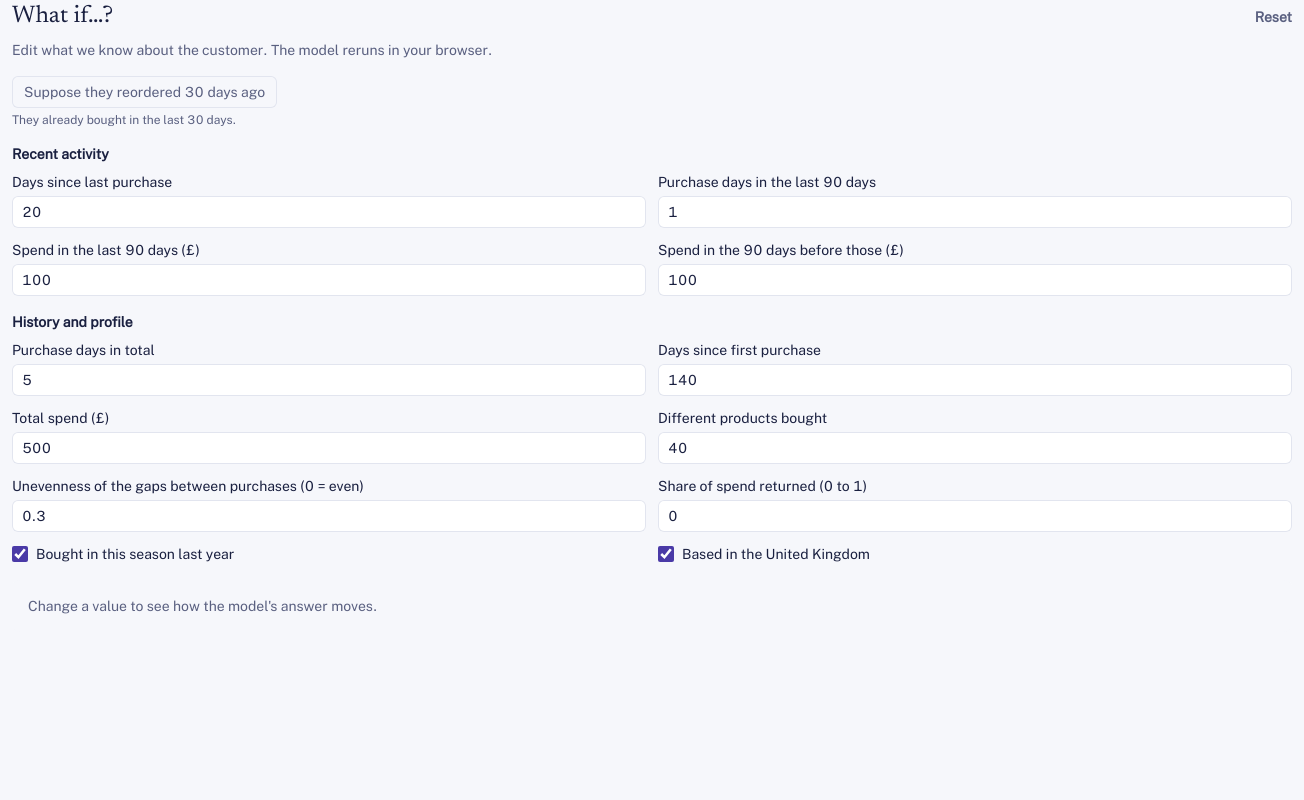
Test case: an edit reruns the model and shows before and after
Replace the text in the field labelled "Days since last purchase" with "60": (329, 212) x1=12 y1=196 x2=646 y2=228
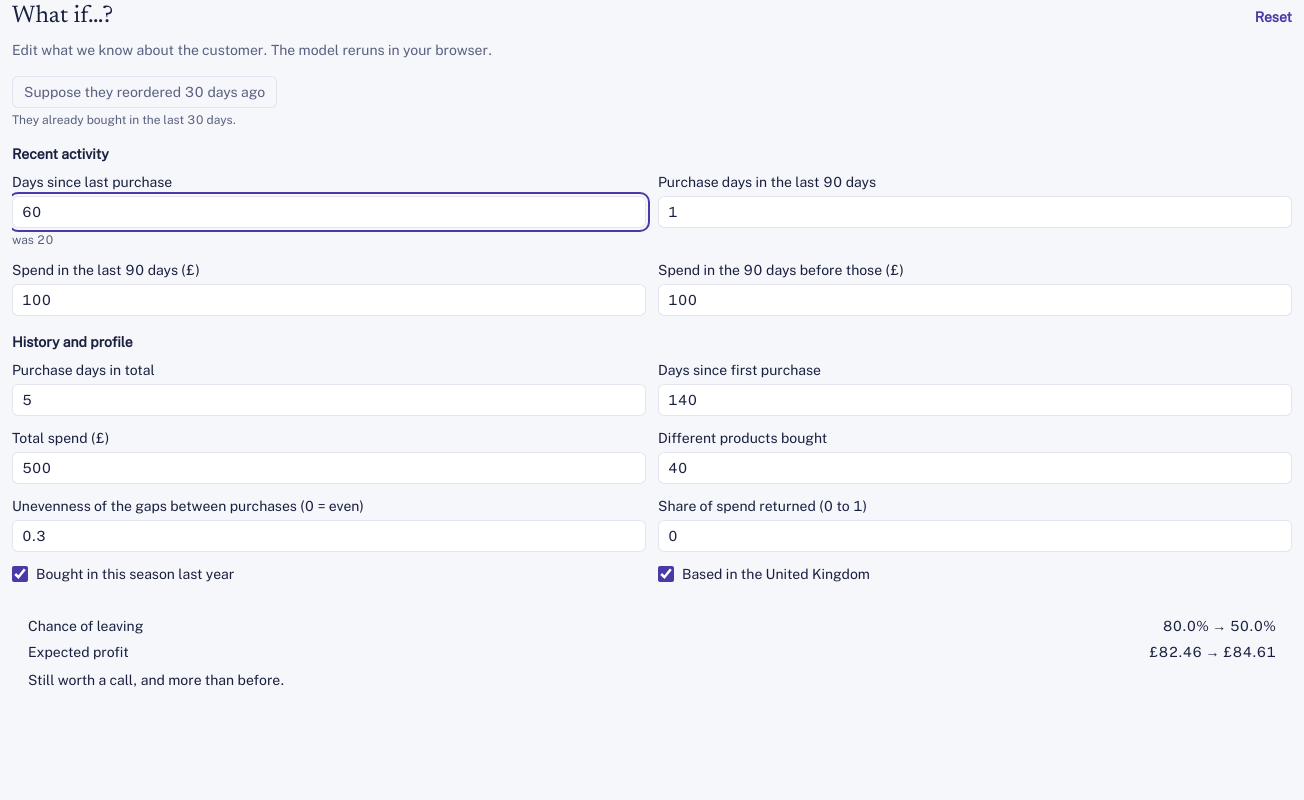
Check: the text "was 20" is shown, box x1=12 y1=233 x2=54 y2=247
Check: the message named "What-if result" shows "Still worth a call, and more than before.", box x1=28 y1=672 x2=284 y2=688
